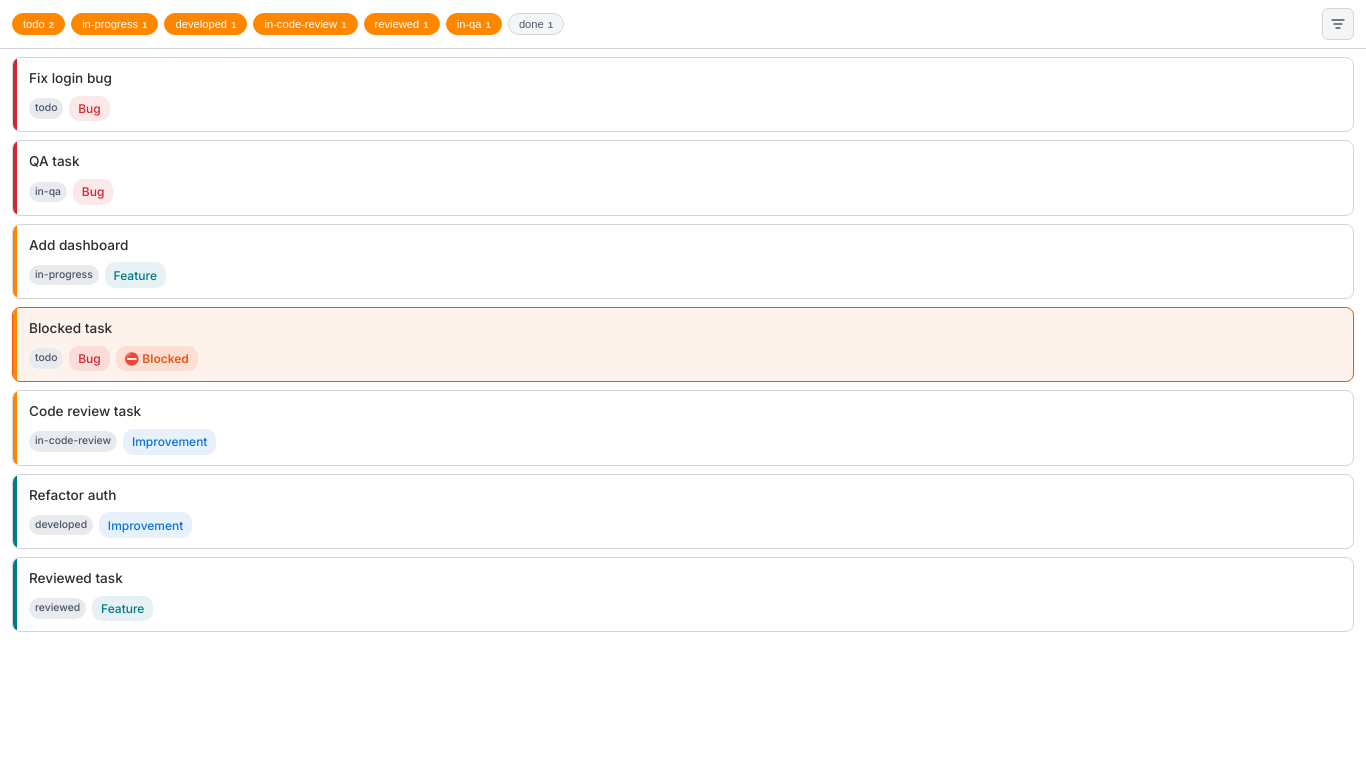
MobileTaskList › filter chips › toggling a chip hides/shows tasks in that state
The width and height of the screenshot is (1366, 768).
Check: the element "Fix login bug todo Bug" is shown, box [12,57,1354,132]
Click the button "todo 2".
click(39, 24)  # box [12,13,65,35]
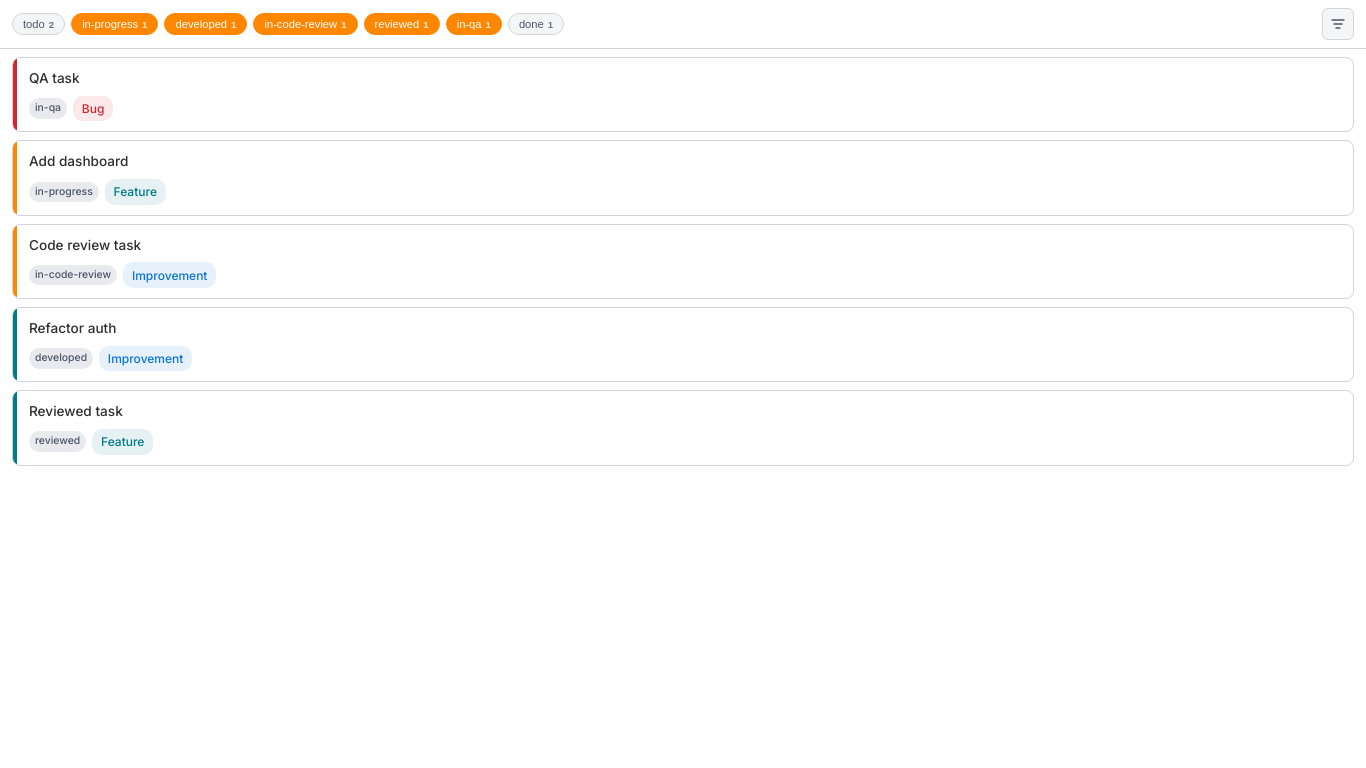
Check: the text "Fix login bug" is gone
Check: the text "Blocked task" is gone
